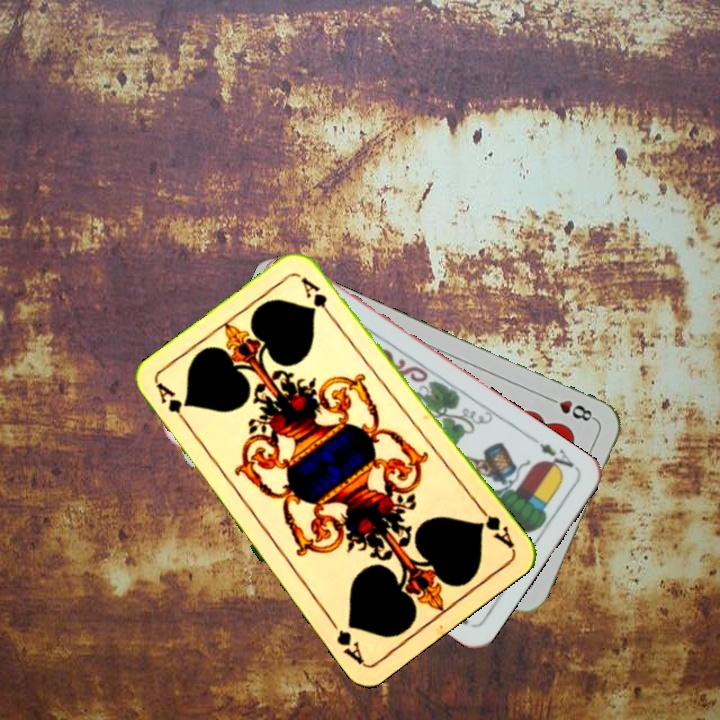EA: (527, 433, 579, 478)
GA: (473, 502, 518, 552), (152, 379, 194, 431)
H8: (542, 392, 598, 424)
